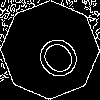O: (25, 25, 85, 85)
